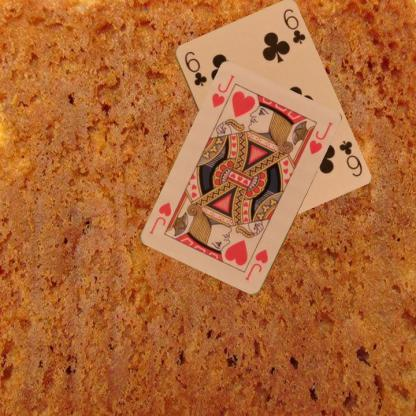6c: (336, 137, 363, 178), (181, 48, 208, 88)
Jh: (209, 72, 236, 110), (242, 247, 270, 282)
